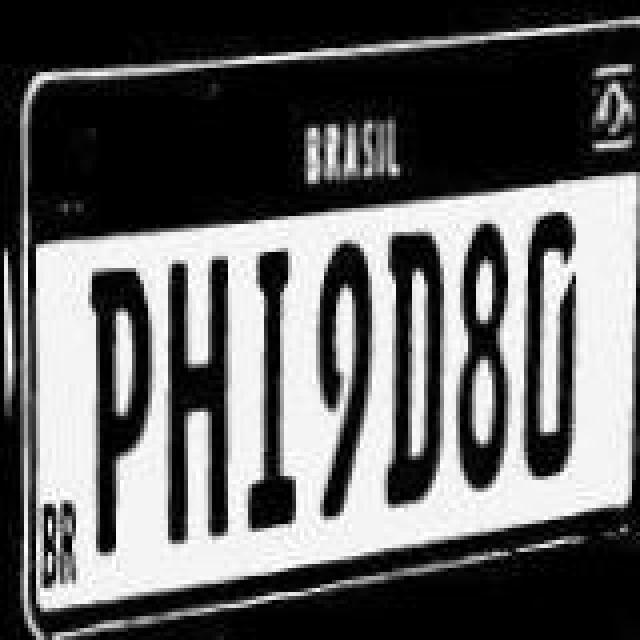8: (442, 200, 518, 484)
9: (300, 228, 380, 516)
D: (370, 210, 446, 502), (510, 188, 586, 464)
H: (162, 242, 238, 538)
I: (232, 240, 312, 528)
P: (88, 258, 160, 554)
